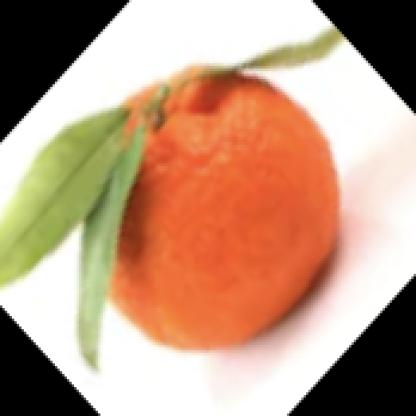fresh: (79, 60, 344, 357)
